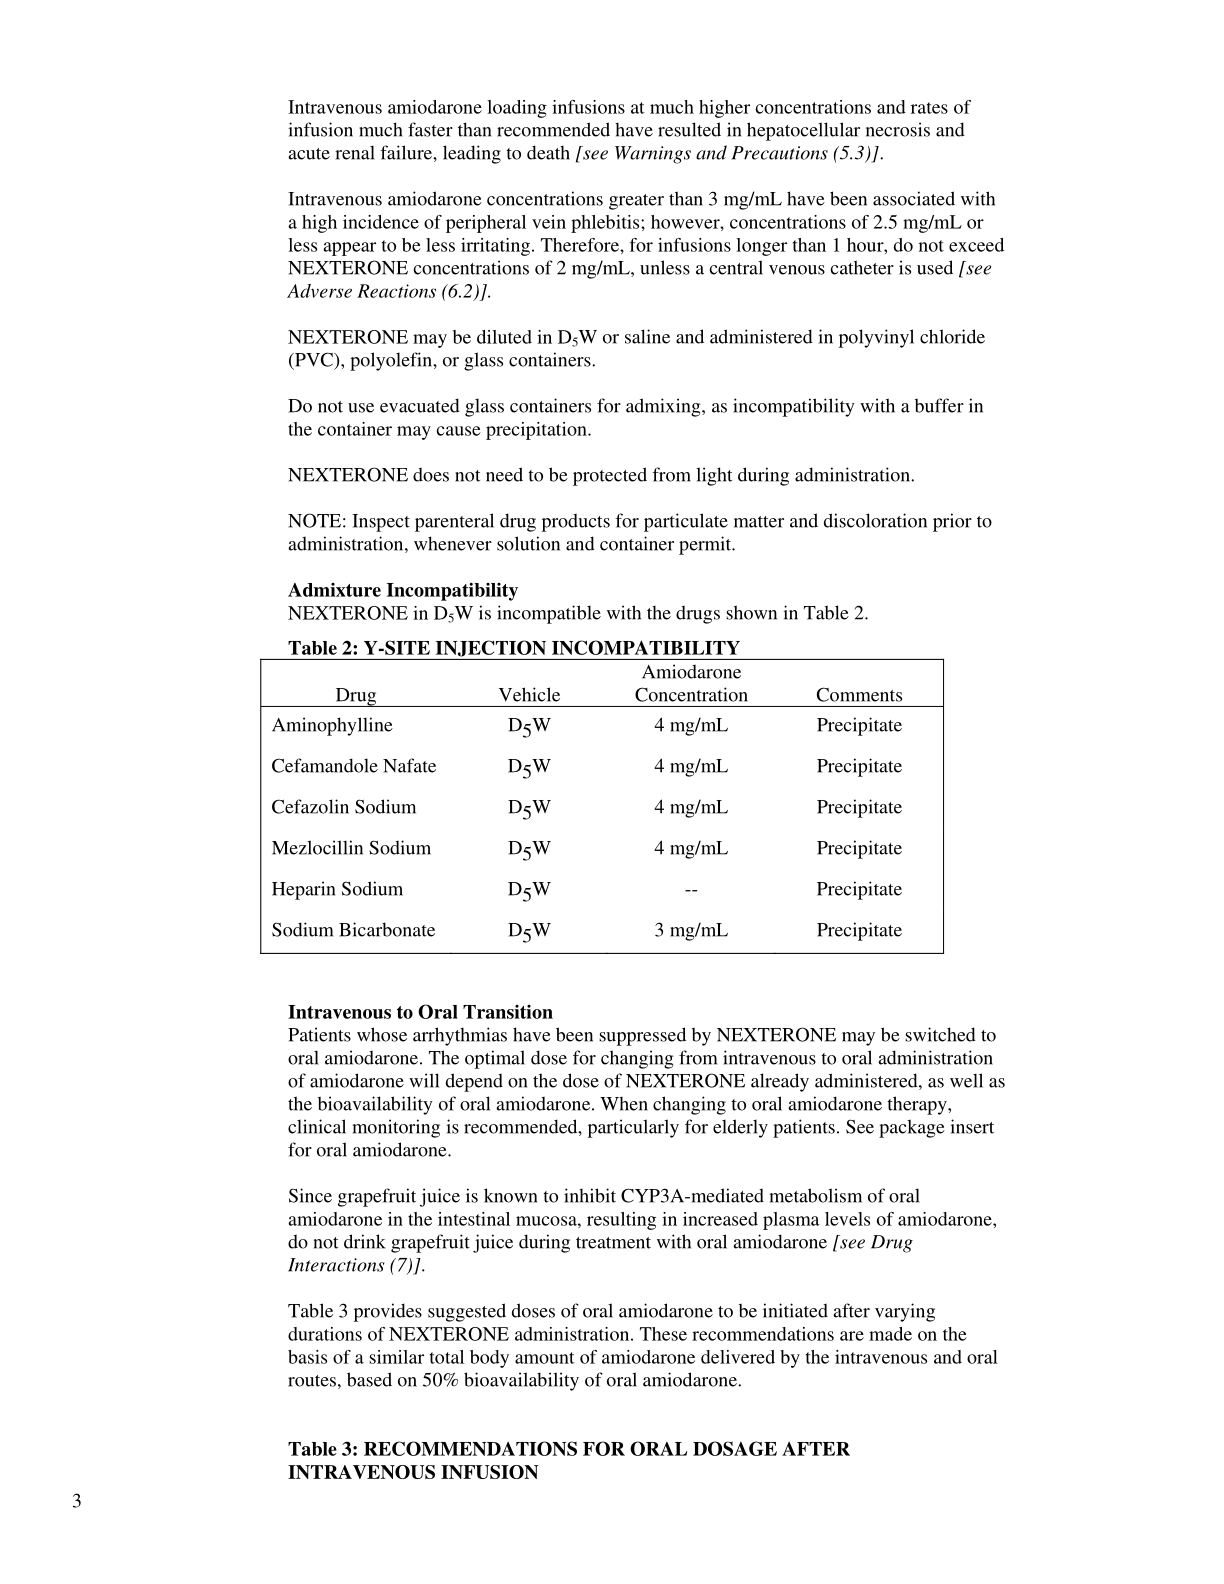partial_lined: (260, 657, 945, 955)
